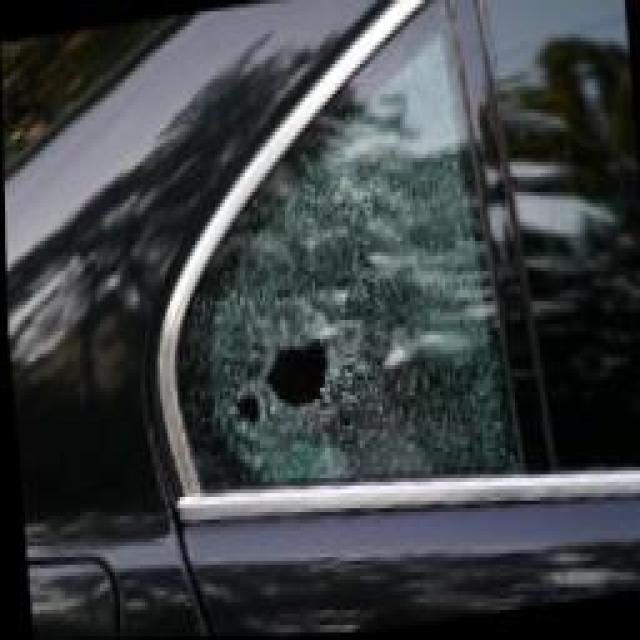Door: (168, 45, 520, 590)
